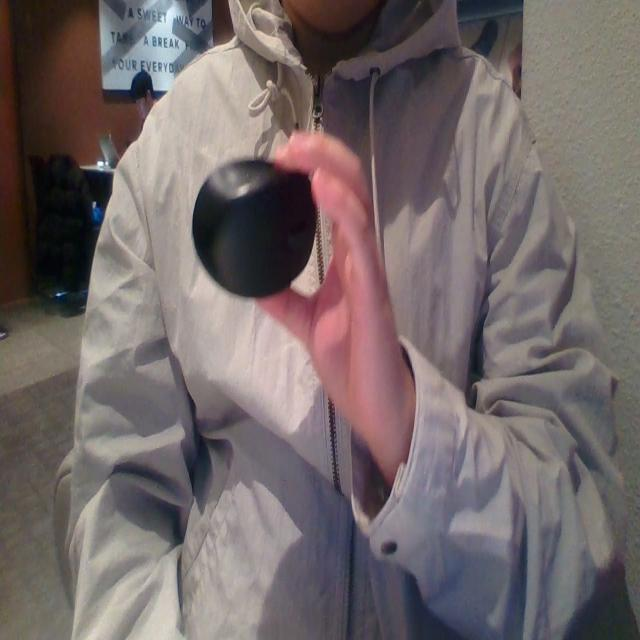grab_mouse: (190, 117, 404, 465)
